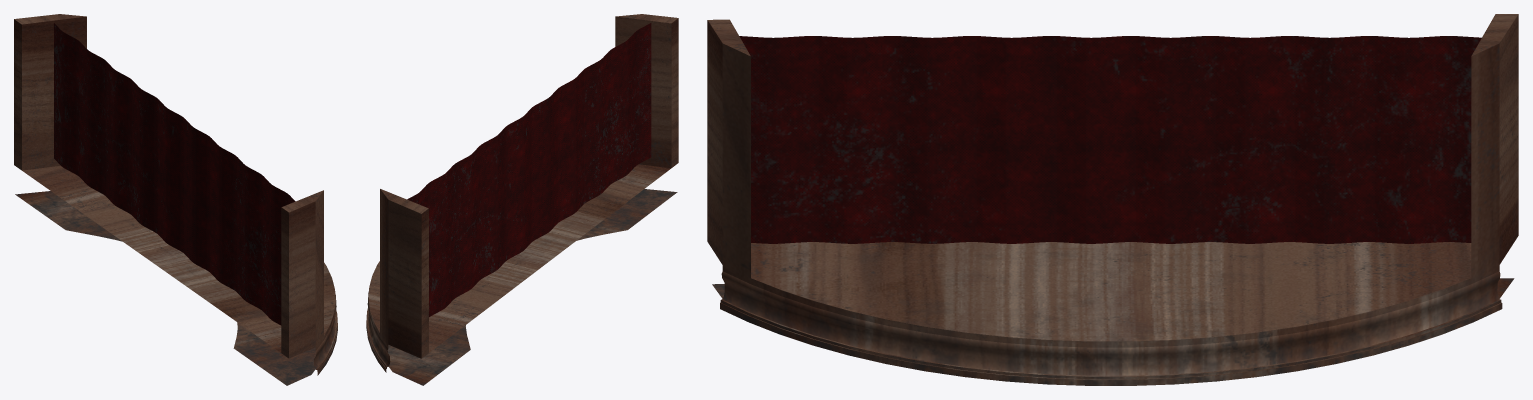
3 renders of one model, left to right at view 1: azimuth 30°, elevation 25°; view 2: azimuth 150°, elevation 25°; view 3: azimuth 270°, elevation 25°, orthographic. The views are drawn at different scales.
Parts seen in each view (by area): view 1: Asset_Scene; view 2: Asset_Scene; view 3: Asset_Scene.
Boxes of the visible parts, bbox=[...] form: Asset_Scene: bbox=[14, 14, 337, 385]; Asset_Scene: bbox=[366, 14, 678, 385]; Asset_Scene: bbox=[707, 14, 1518, 385].
Size of the model in its own units: 537 by 617 by 1712.
Materials: 1 (1 with a texture image).
